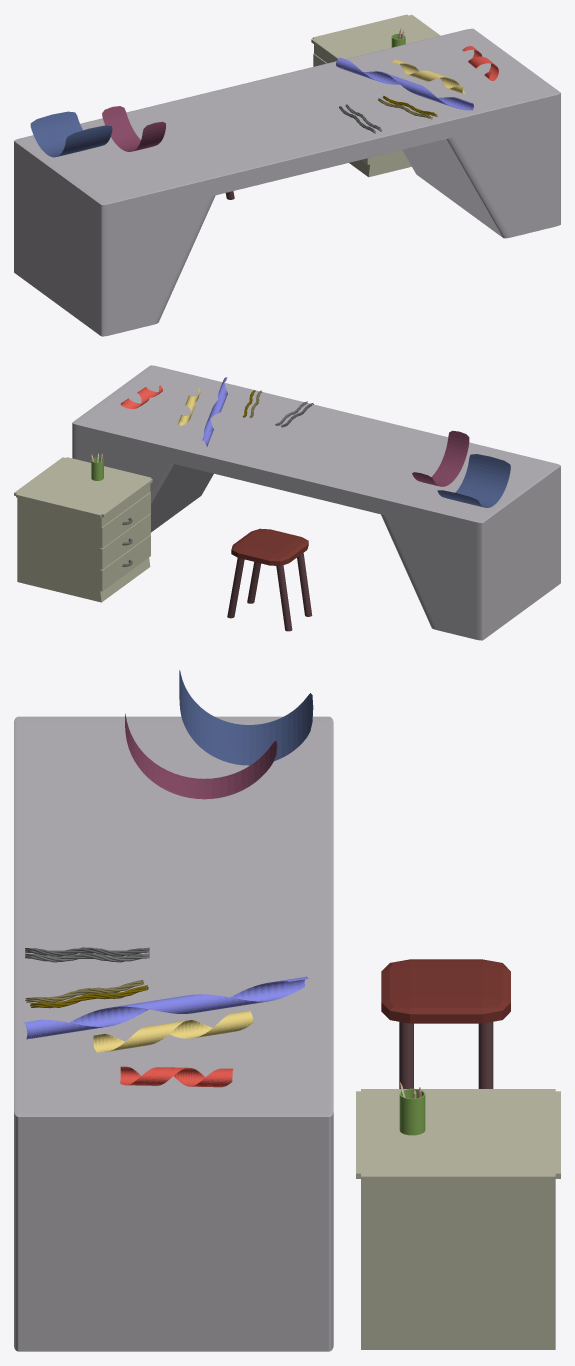
The model's file is Packager.fbx.
The picture shows the model from 3 angles, top to bottom: view 1: azimuth 30°, elevation 25°; view 2: azimuth 150°, elevation 25°; view 3: azimuth 270°, elevation 25°; orthographic projection. The views are drawn at different scales.
Visible parts, largest first — view 1: Cube.019, Cube.018, Cylinder.004, Cylinder.002, Cylinder, Cylinder.001, Cylinder.003; view 2: Cube.019, Cube.018, Cylinder.004, Cube.016, Cylinder.006, Cylinder.002, Cylinder, Cylinder.003; view 3: Cube.019, Cube.018, Cube.016, Cylinder.004, Cylinder, Cylinder.002, Cylinder.001, Cylinder.006, Cylinder.003, Cylinder.005.
Boxes of the visible parts, bbox=[...] form: Cube.019: bbox=[14, 28, 560, 336]; Cube.018: bbox=[311, 14, 440, 177]; Cylinder.004: bbox=[30, 111, 112, 157]; Cylinder.002: bbox=[102, 106, 165, 151]; Cylinder: bbox=[336, 57, 473, 110]; Cylinder.001: bbox=[392, 59, 465, 94]; Cylinder.003: bbox=[462, 46, 498, 80]; Cube.019: bbox=[72, 365, 560, 640]; Cube.018: bbox=[14, 457, 152, 602]; Cylinder.004: bbox=[437, 454, 510, 507]; Cube.016: bbox=[231, 528, 308, 565]; Cylinder.006: bbox=[227, 553, 312, 631]; Cylinder.002: bbox=[412, 430, 469, 486]; Cylinder: bbox=[202, 377, 227, 446]; Cylinder.003: bbox=[120, 385, 162, 408]; Cube.019: bbox=[14, 716, 333, 1351]; Cube.018: bbox=[356, 1089, 560, 1349]; Cube.016: bbox=[381, 959, 510, 1023]; Cylinder.004: bbox=[179, 670, 313, 765]; Cylinder: bbox=[24, 976, 308, 1039]; Cylinder.002: bbox=[125, 713, 277, 799]; Cylinder.001: bbox=[93, 1010, 253, 1052]; Cylinder.006: bbox=[399, 1022, 493, 1088]; Cylinder.003: bbox=[120, 1066, 233, 1087]; Cylinder.005: bbox=[399, 1088, 425, 1135].
Bounding box in the file's own units: 562 × 347 × 977.
